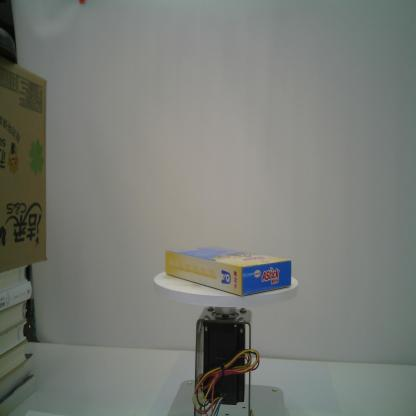Dessert: (165, 246, 292, 296)
